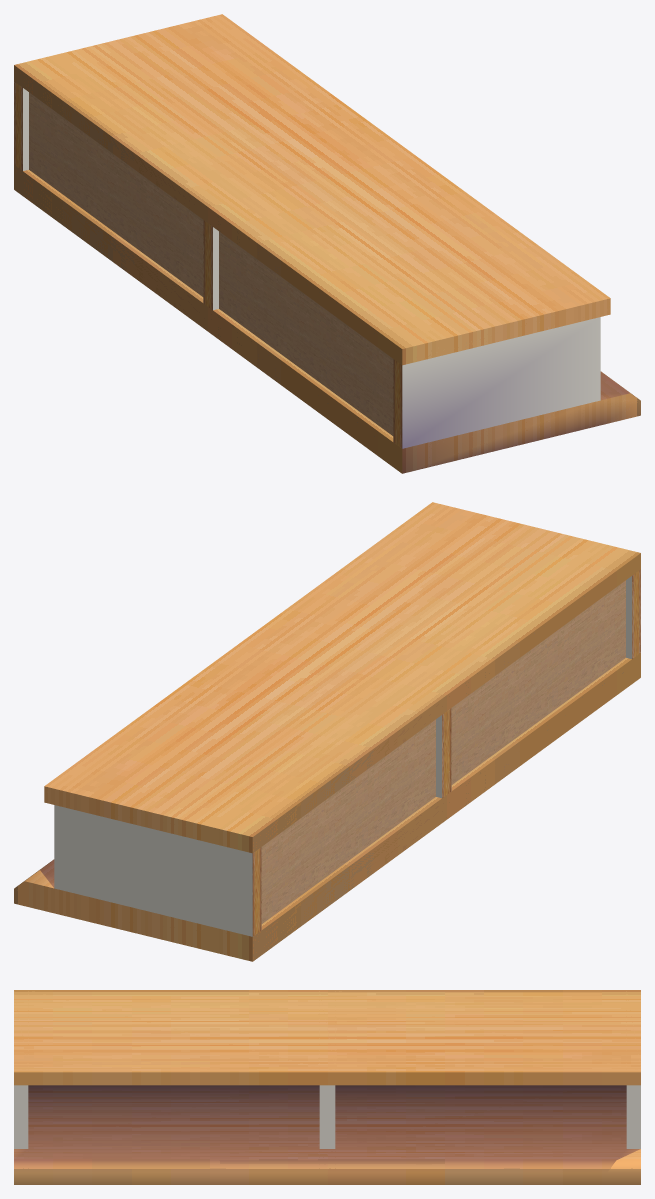
3 renders of one model, top to bottom at view 1: azimuth 30°, elevation 25°; view 2: azimuth 150°, elevation 25°; view 3: azimuth 270°, elevation 25°, orthographic. The views are drawn at different scales.
Visible parts, largest first — view 1: Joint_0_Object_0, Joint_0_Object_2, Joint_0_Object_1, Joint_0_Object_3; view 2: Joint_0_Object_0, Joint_0_Object_2, Joint_0_Object_1, Joint_0_Object_3; view 3: Joint_0_Object_0, Joint_0_Object_1.
Boxes of the visible parts, bbox=[...] form: Joint_0_Object_0: bbox=[14, 14, 640, 473]; Joint_0_Object_2: bbox=[29, 92, 393, 435]; Joint_0_Object_1: bbox=[23, 88, 600, 448]; Joint_0_Object_3: bbox=[14, 81, 402, 448]; Joint_0_Object_0: bbox=[14, 502, 640, 961]; Joint_0_Object_2: bbox=[261, 580, 625, 923]; Joint_0_Object_1: bbox=[54, 576, 631, 936]; Joint_0_Object_3: bbox=[252, 569, 640, 936]; Joint_0_Object_0: bbox=[14, 990, 640, 1184]; Joint_0_Object_1: bbox=[14, 1085, 640, 1148].
Bounding box in the file's own units: 1421 × 709 × 4000.
Materials: 4 (3 with a texture image).
